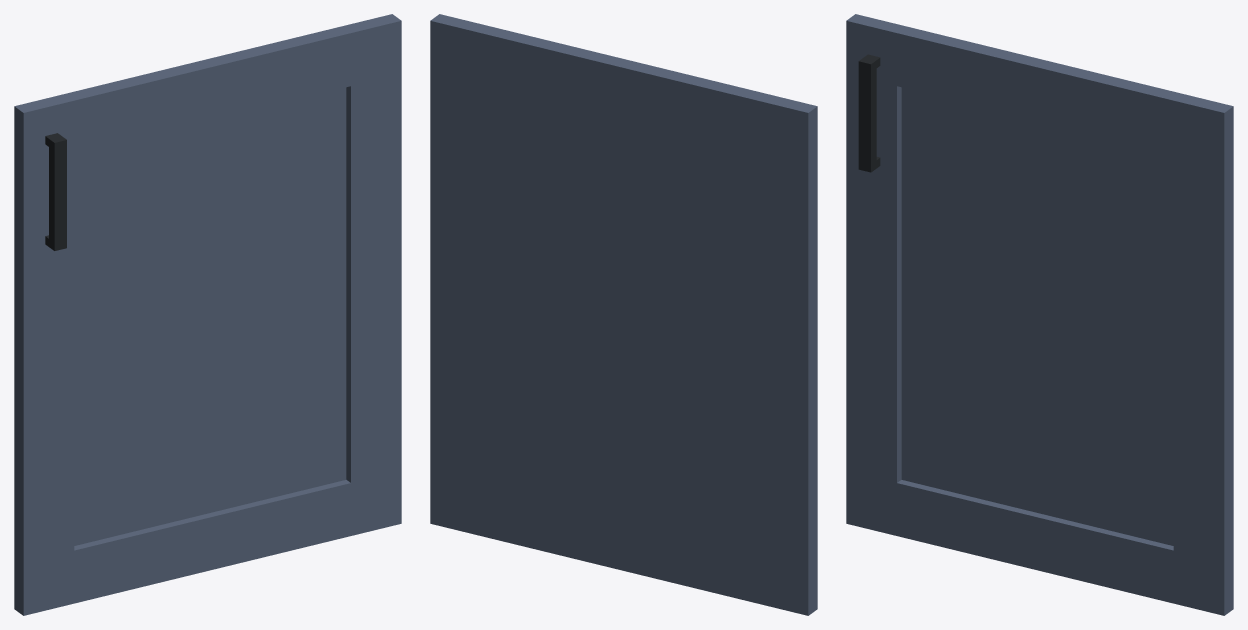
File: Door2_C4_01.fbx
The picture shows the model from 3 angles, left to right: view 1: azimuth 30°, elevation 25°; view 2: azimuth 150°, elevation 25°; view 3: azimuth 330°, elevation 25°; orthographic projection.
Parts seen in each view (by area): view 1: Door2_C4_01; view 2: Door2_C4_01; view 3: Door2_C4_01.
Boxes of the visible parts, x1,y1,x2,y2 form: Door2_C4_01: (14,14,401,615); Door2_C4_01: (430,14,817,615); Door2_C4_01: (846,14,1233,615).
Size of the model in its own units: 59 by 75 by 5.03.
